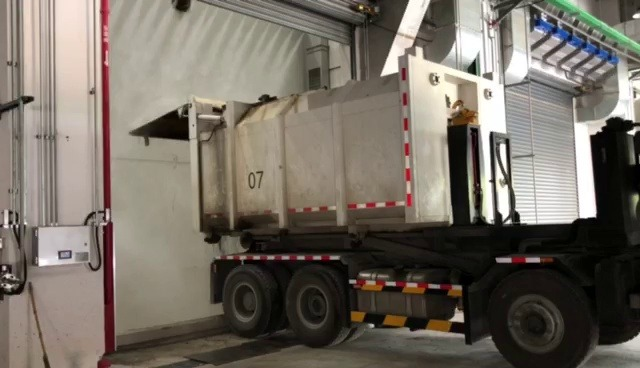dust: (114, 157, 198, 324)
truck: (184, 43, 640, 368)
